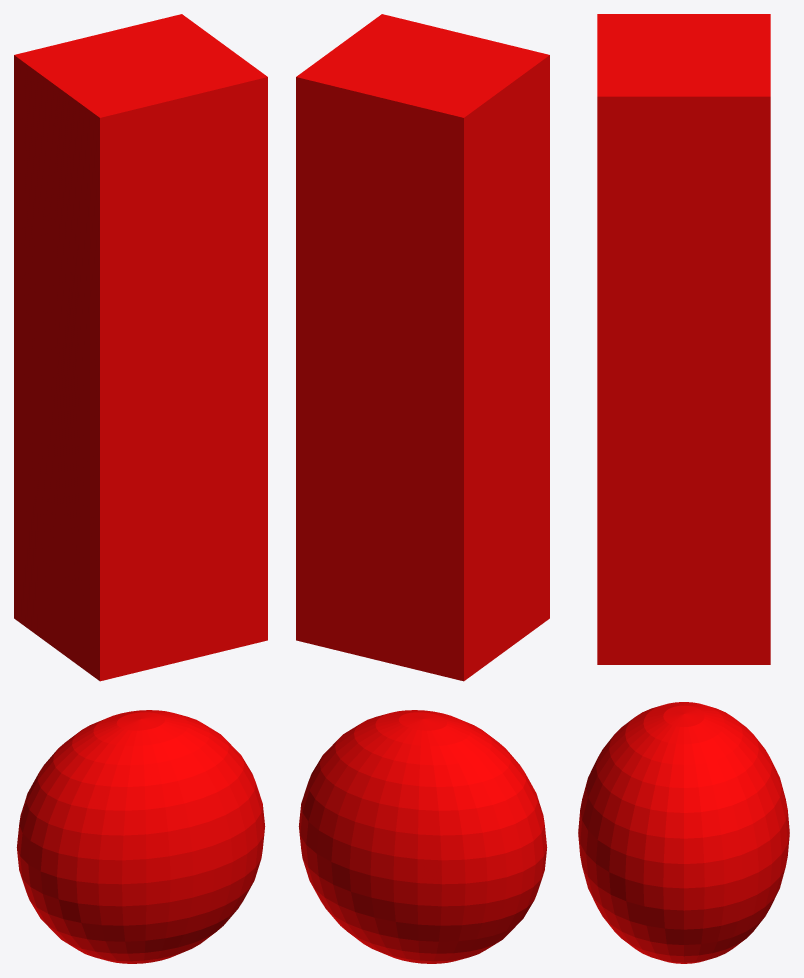
3 views of the same model, side by side, from view 1: azimuth 30°, elevation 25°; view 2: azimuth 150°, elevation 25°; view 3: azimuth 270°, elevation 25° (orthographic).
Visible parts, largest first — view 1: 立方体, 球; view 2: 立方体, 球; view 3: 立方体, 球.
Boxes of the visible parts, x1,y1,x2,y2 form: 立方体: (14,14,267,681); 球: (16,710,265,963); 立方体: (296,14,549,681); 球: (298,710,547,963); 立方体: (597,14,770,664); 球: (578,702,789,963).
Bounding box in the file's own units: 1.54 × 5.79 × 1.24.
2 materials, 2 textured.
